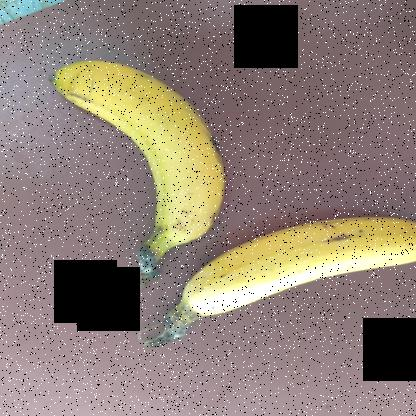freshripe: (46, 65, 231, 261), (165, 206, 415, 327)
